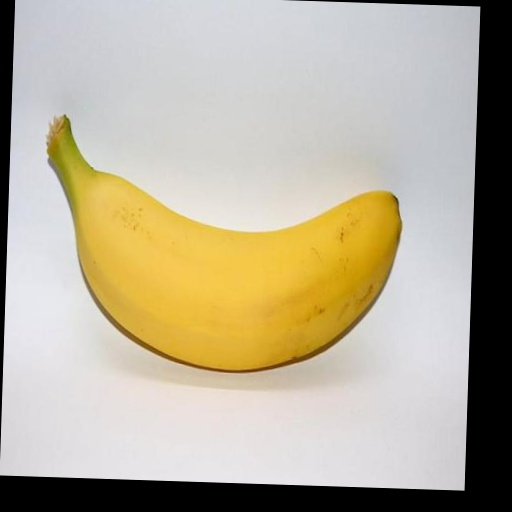fruit: (47, 116, 401, 370)
